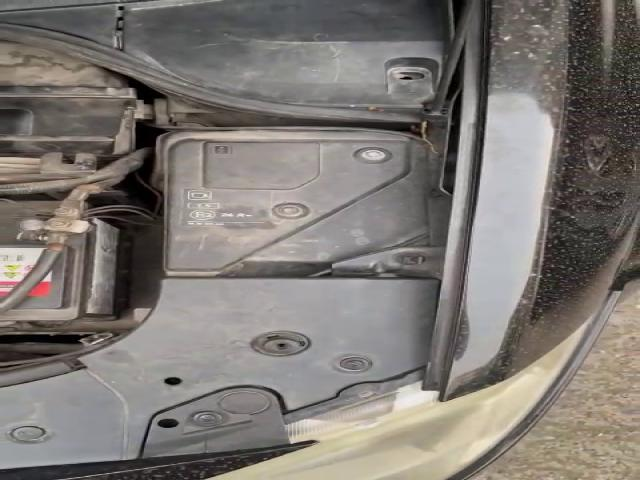accumulator: (0, 202, 128, 321)
fuse_box: (162, 139, 427, 273)
